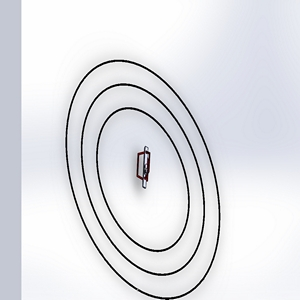circle: (54, 50, 242, 299)
submarine: (129, 141, 160, 195)
